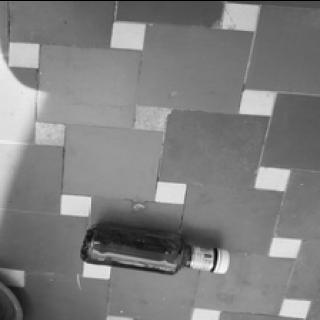plastic_bottles: (75, 216, 236, 282)
